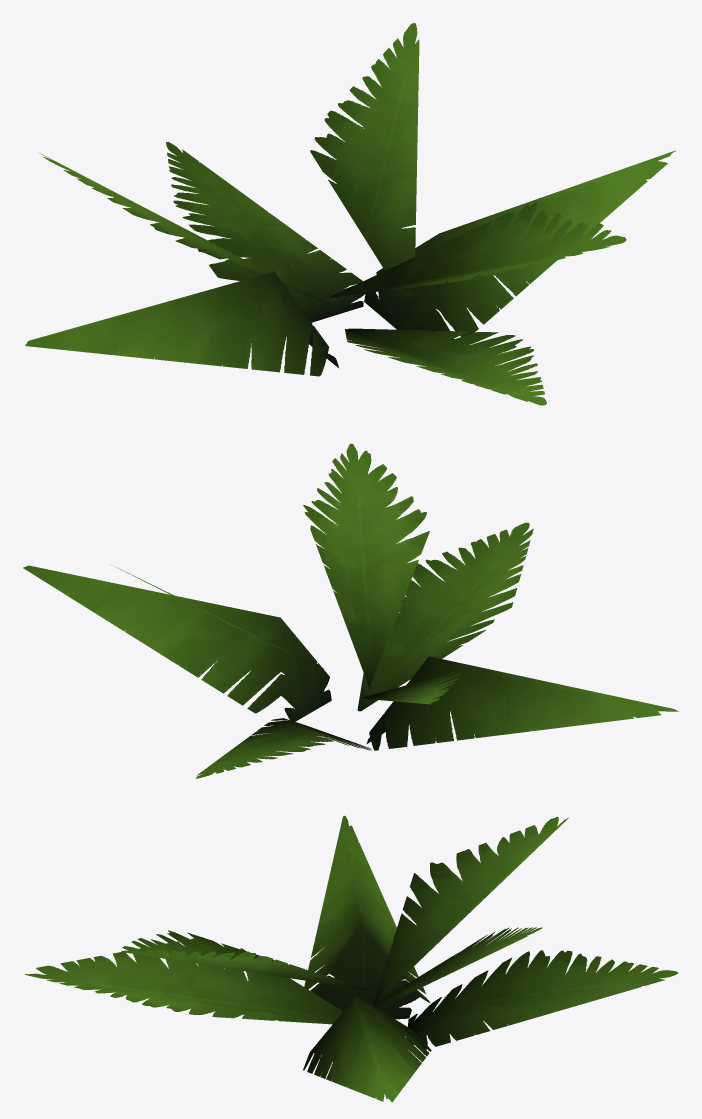
Rendered from fern.glb.
3 views of the same model, one above another, from view 1: azimuth 30°, elevation 25°; view 2: azimuth 150°, elevation 25°; view 3: azimuth 270°, elevation 25° (orthographic). The views are drawn at different scales.
Parts seen in each view (by area): view 1: Fern_1; view 2: Fern_1; view 3: Fern_1.
Boxes of the visible parts, bbox=[...] form: Fern_1: bbox=[25, 23, 676, 405]; Fern_1: bbox=[23, 443, 678, 778]; Fern_1: bbox=[25, 816, 678, 1102].
Size of the model in its own units: 2.83 by 0.8404 by 2.65.
Materials: 1 (1 with a texture image).
